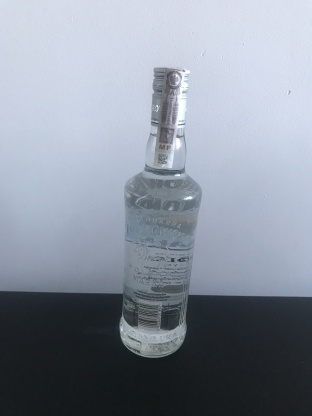nakretka: (148, 61, 192, 131)
